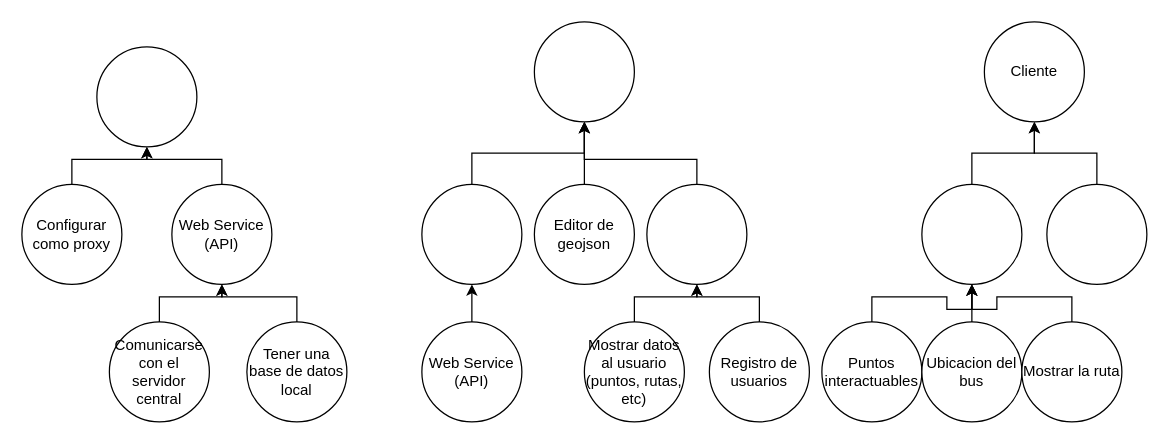
This 1169x444 diagram has some shape labels left out. The centre of each missing label's shape, as x and y in pixels:
Base de datos central: pixel 471 233
Guia virtual: pixel 1096 233
Mapa: pixel 971 233
Pagina Web: pixel 583 71
Raspberry pi: pixel 146 96
Sistema de usuarios: pixel 696 233
